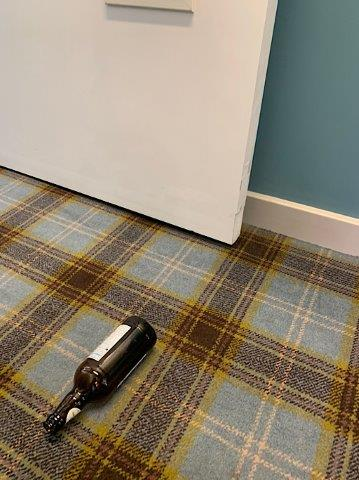botolkaca: (44, 317, 157, 430)
